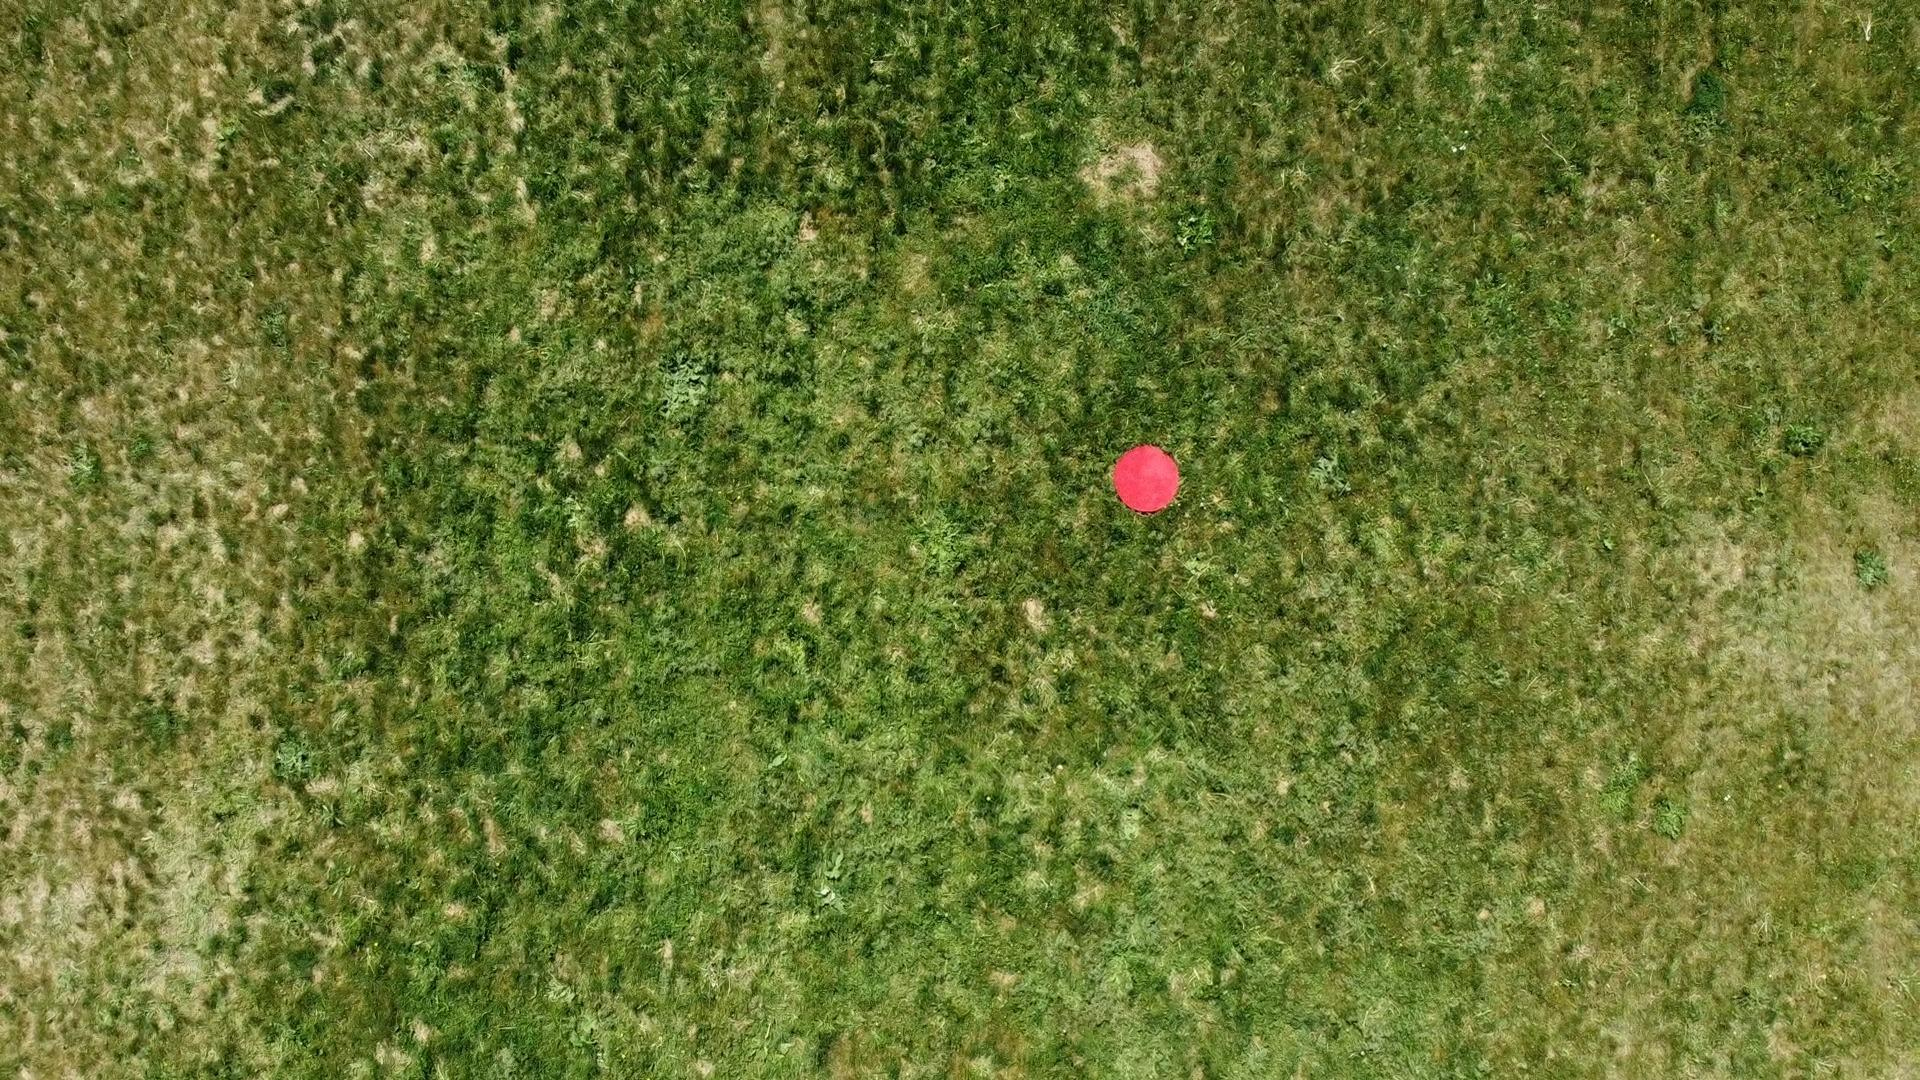Red: (1112, 442, 1183, 516)
